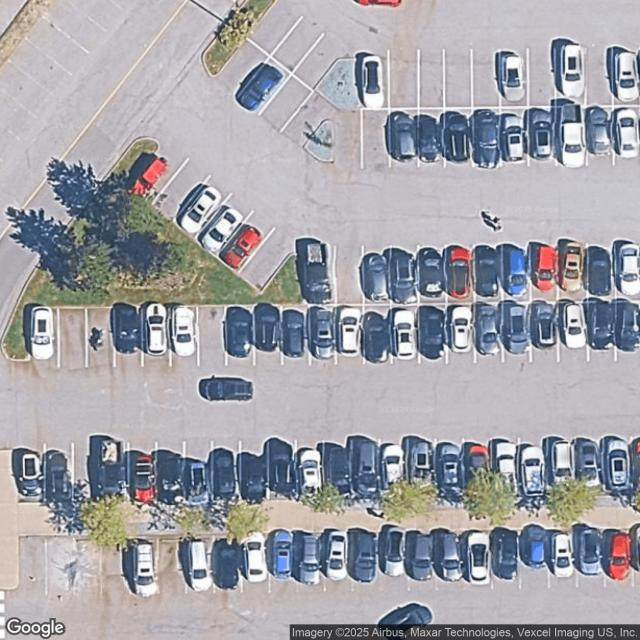car: (86, 435, 126, 499), (348, 436, 385, 500), (236, 63, 282, 112), (296, 238, 331, 302), (176, 184, 220, 233), (550, 37, 584, 98), (378, 602, 433, 639), (122, 540, 158, 596), (200, 206, 242, 253), (600, 435, 632, 494), (262, 438, 294, 497), (605, 46, 639, 101), (220, 225, 260, 269), (389, 247, 419, 305), (470, 110, 500, 167), (499, 299, 530, 354), (324, 446, 355, 501), (430, 528, 462, 581), (134, 156, 173, 199), (12, 447, 43, 501), (41, 449, 72, 503), (582, 297, 614, 349), (206, 448, 236, 503), (497, 243, 528, 296), (433, 441, 462, 497), (347, 528, 377, 582), (443, 246, 473, 300), (494, 49, 525, 101), (415, 306, 446, 358), (110, 302, 141, 354), (154, 456, 186, 506), (362, 250, 391, 305), (317, 529, 347, 582), (360, 310, 390, 363), (167, 304, 197, 356), (223, 306, 253, 358), (572, 523, 602, 575), (489, 528, 519, 580), (238, 450, 268, 502), (385, 112, 416, 162), (27, 303, 55, 358), (523, 525, 552, 578), (291, 530, 319, 584), (612, 240, 640, 294), (523, 108, 552, 160), (559, 104, 585, 162), (416, 247, 445, 299), (404, 528, 433, 580), (215, 540, 244, 592), (473, 301, 501, 354), (528, 299, 557, 350), (441, 111, 470, 162), (402, 435, 432, 484), (266, 528, 294, 580), (378, 524, 406, 576), (556, 239, 584, 291), (541, 436, 570, 486), (307, 305, 334, 358), (388, 306, 416, 357), (610, 108, 639, 157), (529, 243, 558, 292), (472, 244, 499, 296), (142, 301, 168, 355), (200, 376, 254, 402), (584, 246, 612, 296), (358, 52, 382, 110), (557, 300, 586, 348), (461, 440, 490, 488), (446, 304, 474, 353), (572, 436, 600, 485), (601, 528, 629, 577), (584, 105, 611, 155), (253, 303, 280, 353), (182, 456, 209, 506), (498, 112, 524, 162), (334, 306, 360, 356), (415, 114, 442, 162), (131, 449, 156, 500), (280, 308, 306, 357), (550, 530, 576, 578), (190, 540, 212, 593), (488, 438, 515, 480), (298, 450, 319, 503), (380, 444, 404, 489), (524, 448, 545, 498), (468, 534, 488, 586), (246, 537, 265, 584)
lot_boundary: (0, 0, 639, 639)
